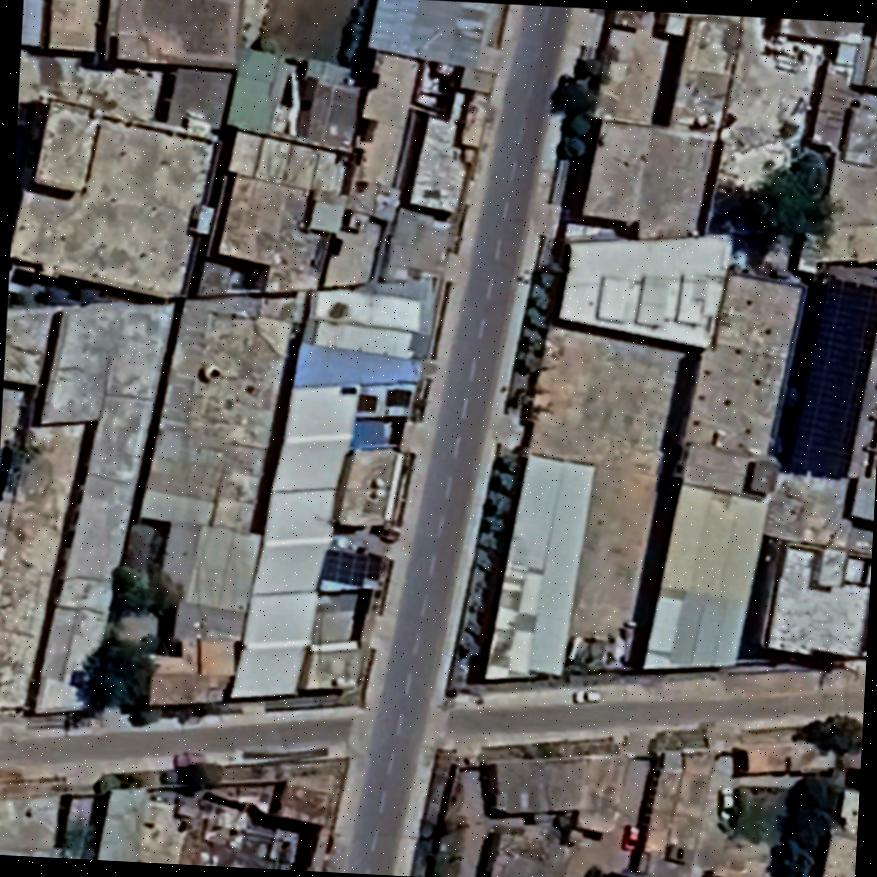Solarpanel: (777, 269, 877, 484), (314, 541, 388, 593)
